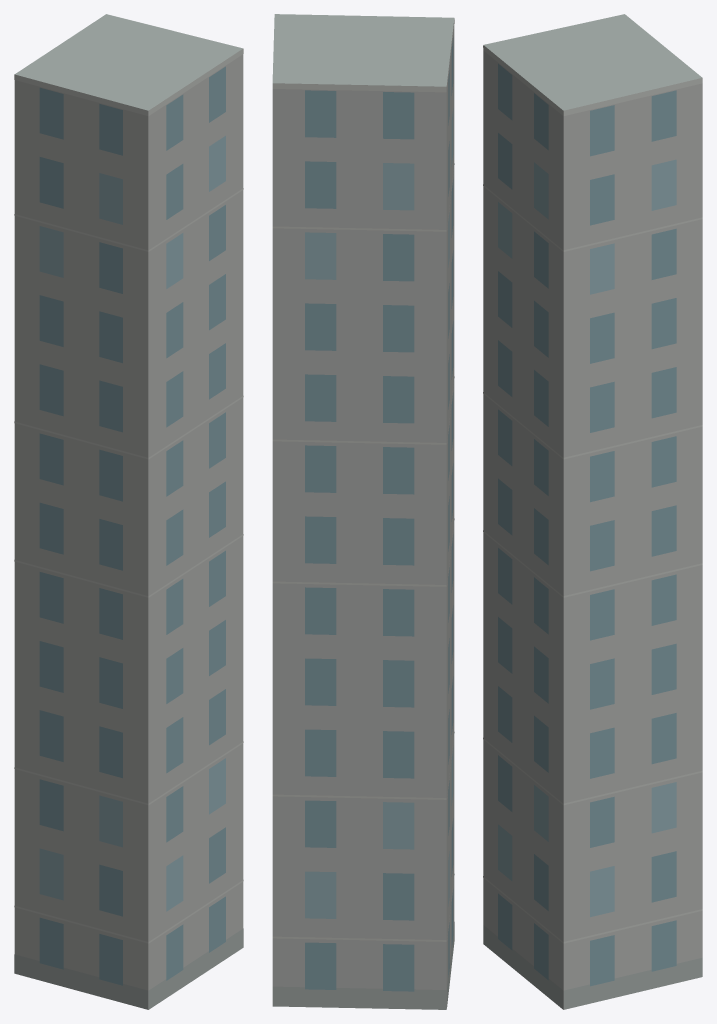
The model's file is survey-upis-33045432.glb.
3 views of the same model, side by side, from view 1: azimuth 30°, elevation 25°; view 2: azimuth 150°, elevation 25°; view 3: azimuth 270°, elevation 25° (orthographic). The views are drawn at different scales.
Visible parts, largest first — view 1: survey-upis-33045432.tmp; view 2: survey-upis-33045432.tmp; view 3: survey-upis-33045432.tmp.
Part boxes in pixels (box(x1,y1,x2,y2)): survey-upis-33045432.tmp: box(14, 14, 243, 1009); survey-upis-33045432.tmp: box(272, 14, 454, 1009); survey-upis-33045432.tmp: box(483, 14, 702, 1009).
Bounding box in the file's own units: 9.17 × 39.65 × 8.79.
